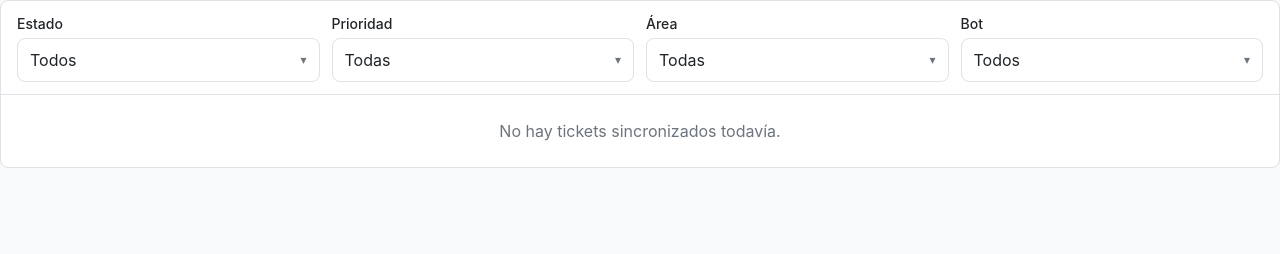
LST-3 empty › shows a "limpiar filtros" CTA when filters narrow to zero results
Click the dropdown named "área". click: click(682, 60)
box: 646,38 -> 948,82
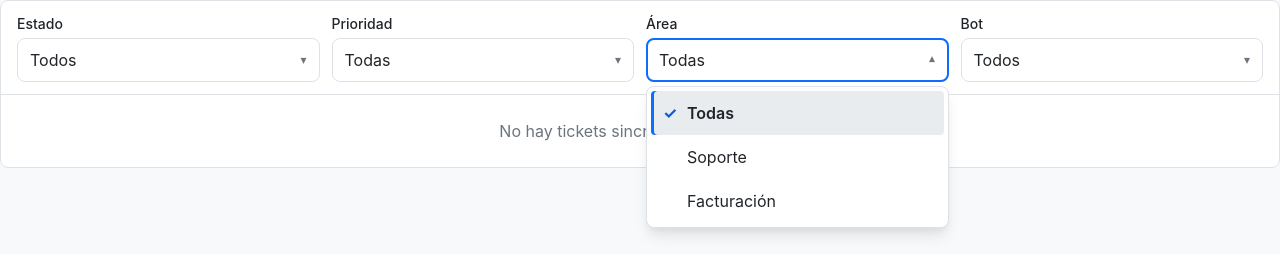
Click the option "Facturación". click: click(732, 201)
box: 687,191 -> 776,211
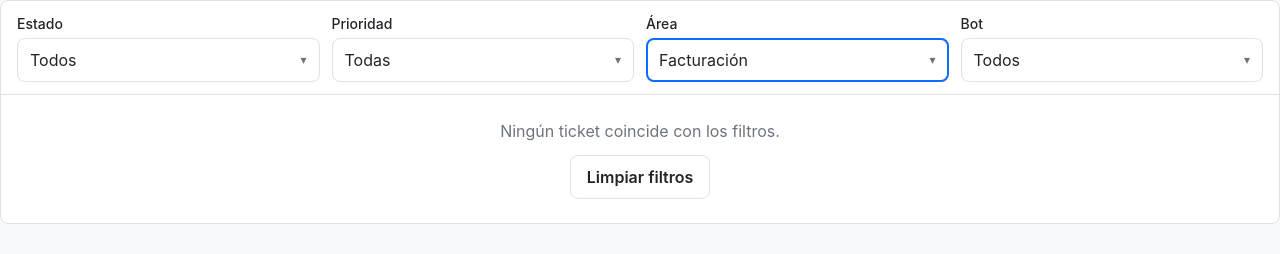
Expected: the button "Limpiar filtros" is shown, 570,155 -> 710,199
